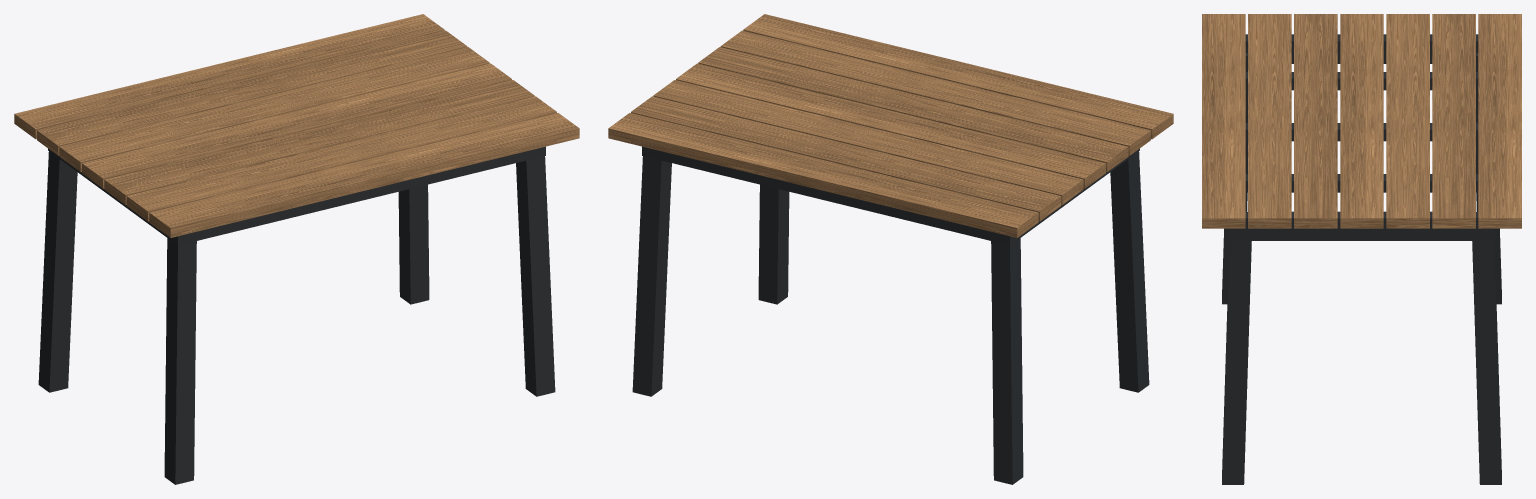
The model's file is table4.glb.
3 views of the same model, side by side, from view 1: azimuth 30°, elevation 25°; view 2: azimuth 150°, elevation 25°; view 3: azimuth 270°, elevation 25° (orthographic). The views are drawn at different scales.
Parts seen in each view (by area): view 1: teak.004, frame.006; view 2: teak.004, frame.006; view 3: teak.004, frame.006.
Boxes of the visible parts, x1,y1,x2,y2 form: teak.004: [14, 14, 579, 237]; frame.006: [38, 146, 555, 484]; teak.004: [608, 14, 1173, 237]; frame.006: [632, 146, 1149, 484]; teak.004: [1202, 14, 1521, 228]; frame.006: [1222, 34, 1501, 484].
Size of the model in its own units: 1.2 by 0.75 by 0.794.
2 materials, 1 textured.
